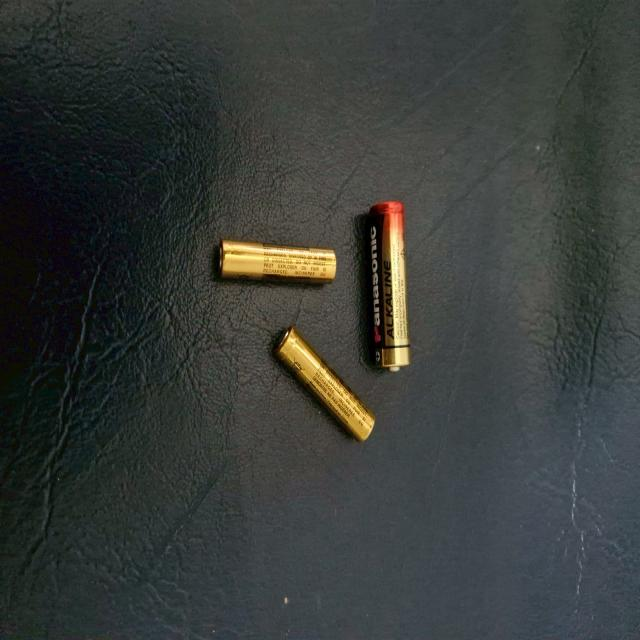battery: (357, 202, 416, 378)
